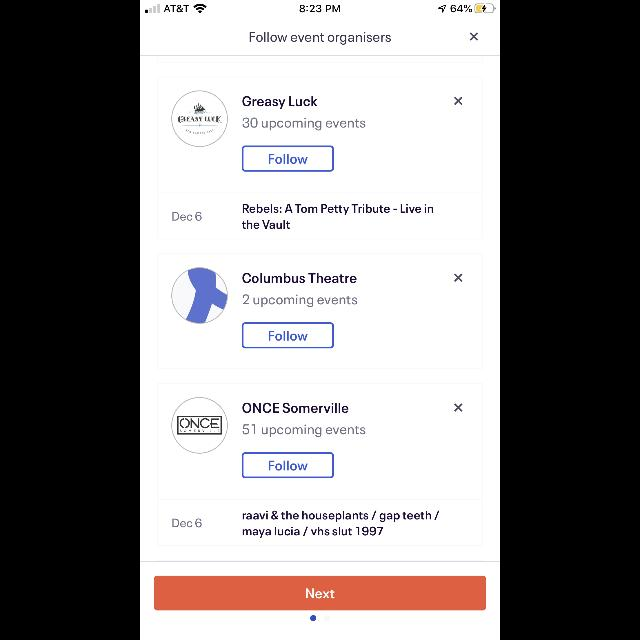icon: (469, 32, 478, 42), (454, 97, 462, 105), (454, 274, 462, 282), (454, 404, 462, 412)
image: (172, 90, 228, 148), (172, 396, 228, 454), (172, 268, 228, 324)
pageindicator: (310, 615, 330, 621)
text: (243, 510, 439, 538), (242, 204, 433, 230), (250, 32, 390, 46), (242, 424, 366, 438), (242, 294, 358, 308), (242, 118, 366, 130), (243, 272, 357, 284), (242, 96, 318, 110), (243, 403, 349, 413), (172, 212, 202, 222), (172, 518, 202, 528)
textbutton: (154, 576, 486, 610), (242, 146, 334, 172), (242, 322, 334, 348), (242, 452, 334, 478)
uppertaskbar: (140, 0, 500, 14)
